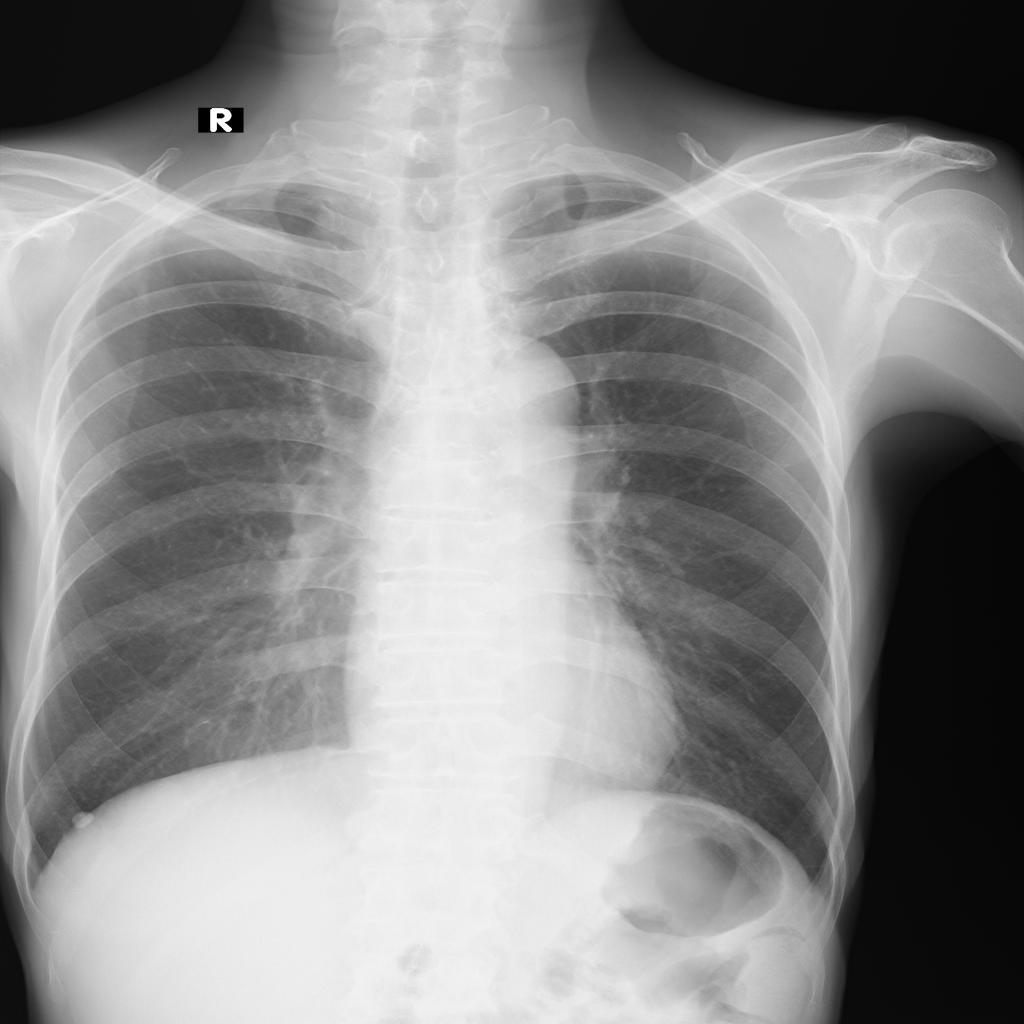Nodule: (65, 810, 97, 829)
